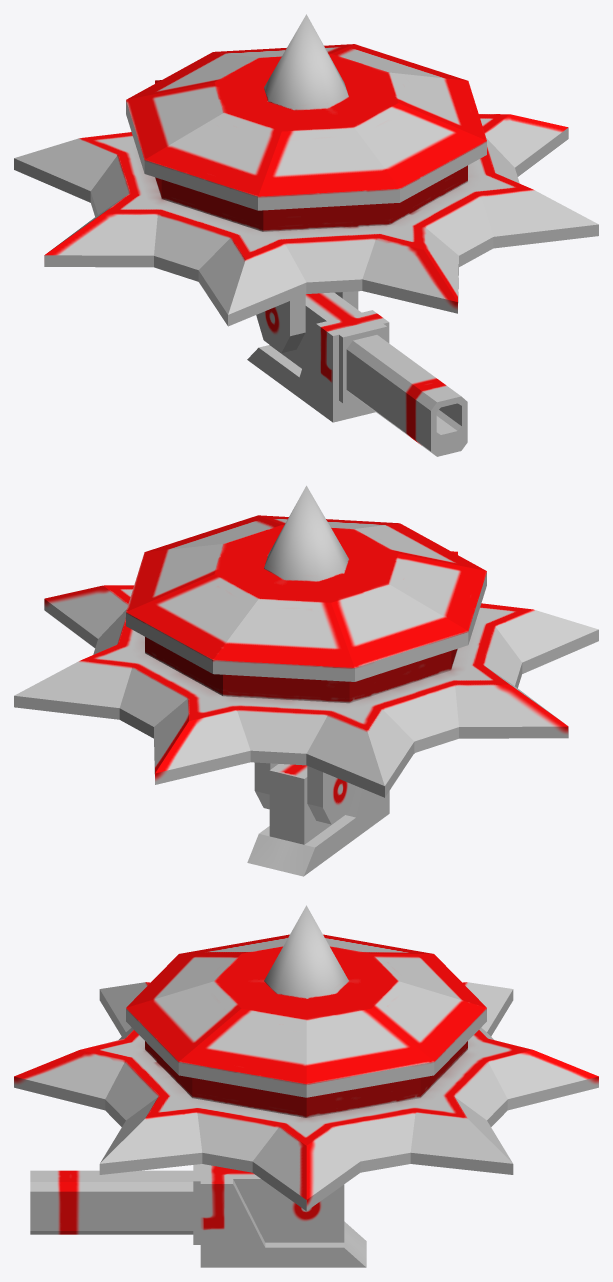
The model's file is UFO_Attack02.fbx.
3 views of the same model, one above another, from view 1: azimuth 30°, elevation 25°; view 2: azimuth 150°, elevation 25°; view 3: azimuth 270°, elevation 25° (orthographic). The views are drawn at different scales.
Visible parts, largest first — view 1: P_UFO_Attack, P_Cannon_Attack; view 2: P_UFO_Attack, P_Cannon_Attack; view 3: P_UFO_Attack, P_Cannon_Attack.
Boxes of the visible parts, bbox=[...] form: P_UFO_Attack: bbox=[14, 14, 598, 353]; P_Cannon_Attack: bbox=[247, 292, 467, 456]; P_UFO_Attack: bbox=[14, 485, 598, 824]; P_Cannon_Attack: bbox=[247, 753, 414, 876]; P_UFO_Attack: bbox=[14, 905, 598, 1234]; P_Cannon_Attack: bbox=[30, 1164, 366, 1267].
Size of the model in its own units: 2.81 by 1.85 by 2.81.
1 material, 1 textured.
